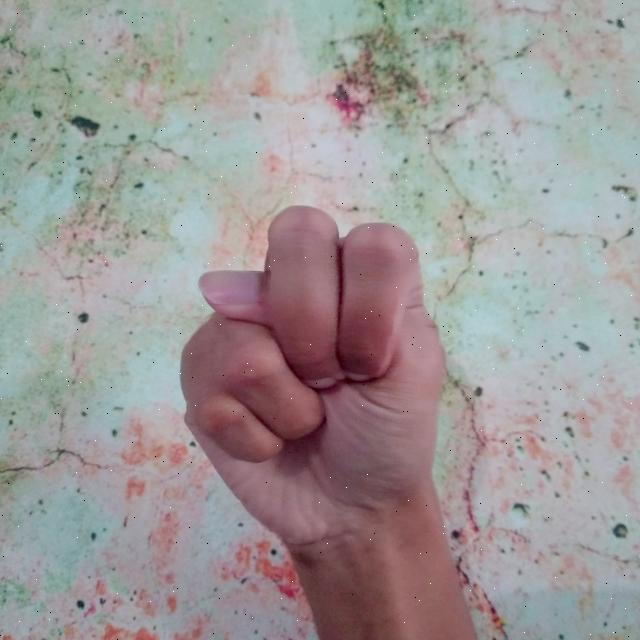N: (174, 201, 471, 640)
